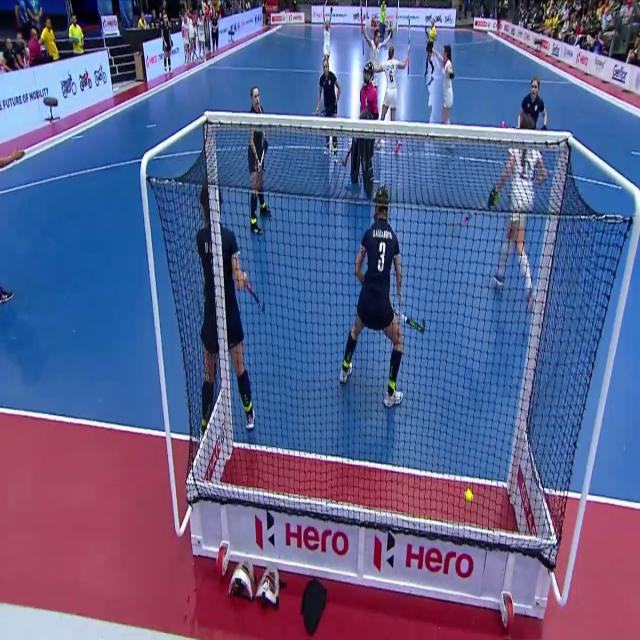ball: (462, 485, 478, 507)
